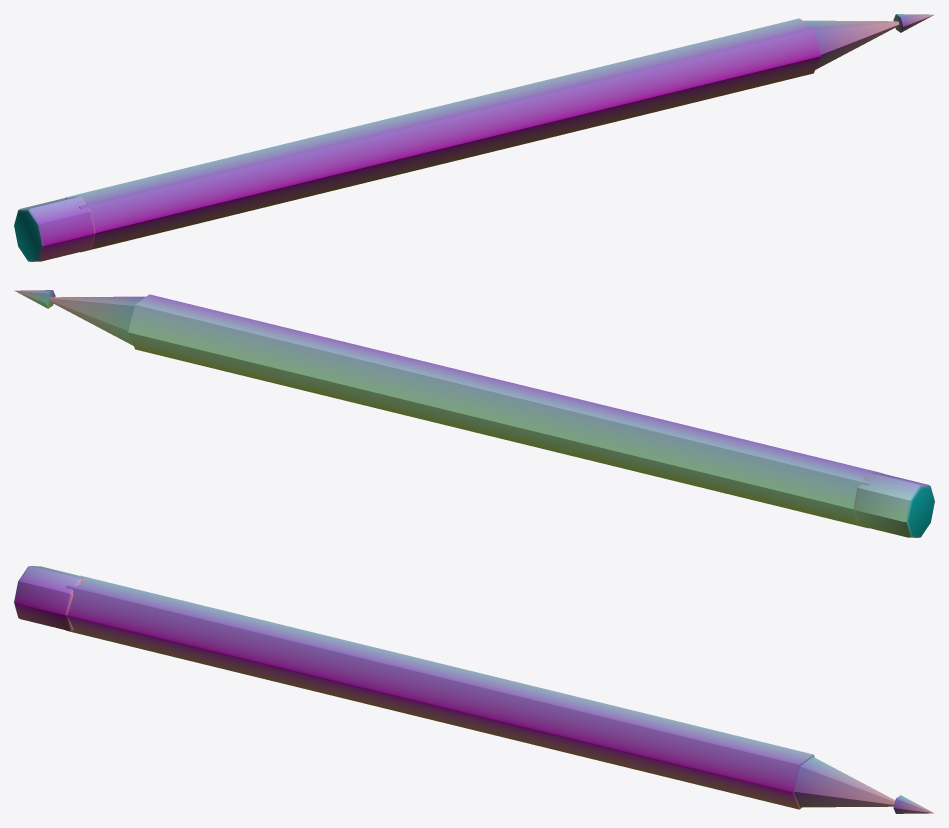
File: env_deco_pencil.glb
3 views of the same model, one above another, from view 1: azimuth 30°, elevation 25°; view 2: azimuth 150°, elevation 25°; view 3: azimuth 330°, elevation 25° (orthographic).
Parts seen in each view (by area): view 1: env_deco_pencil_mesh; view 2: env_deco_pencil_mesh; view 3: env_deco_pencil_mesh.
Boxes of the visible parts, left/top/right/bottom form: env_deco_pencil_mesh: left=14, top=14, right=934, bottom=261; env_deco_pencil_mesh: left=14, top=290, right=934, bottom=537; env_deco_pencil_mesh: left=14, top=566, right=934, bottom=813.
Size of the model in its own units: 1.29 by 0.072 by 0.072.
